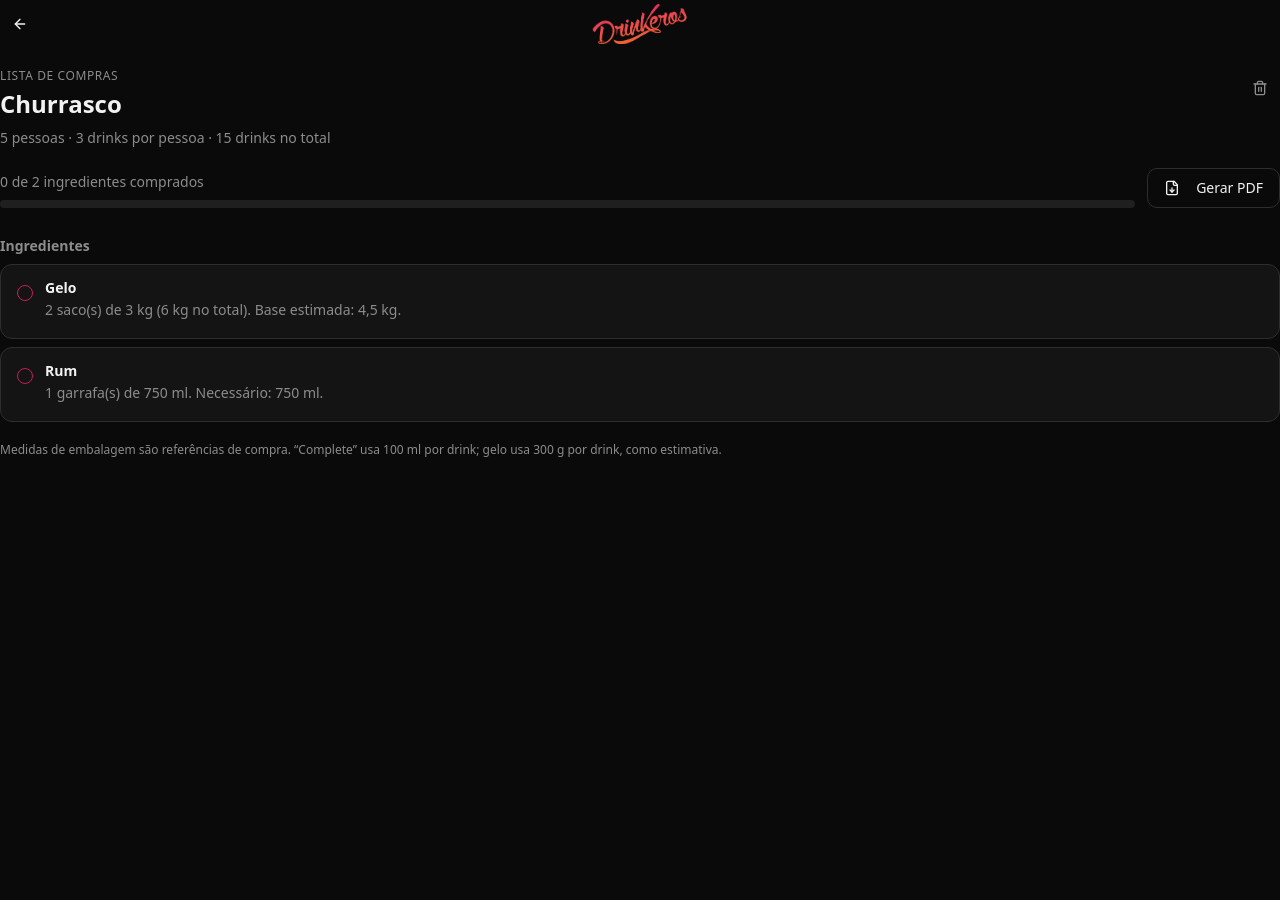
Test: keeps the confirmation open on failure and preserves the current list
The image size is (1280, 900).
What coordinates should you click on to do the following:
click the button named "Excluir lista Churrasco"
I would click on:
 (1260, 88)
Its box is [1240,68,1279,108].
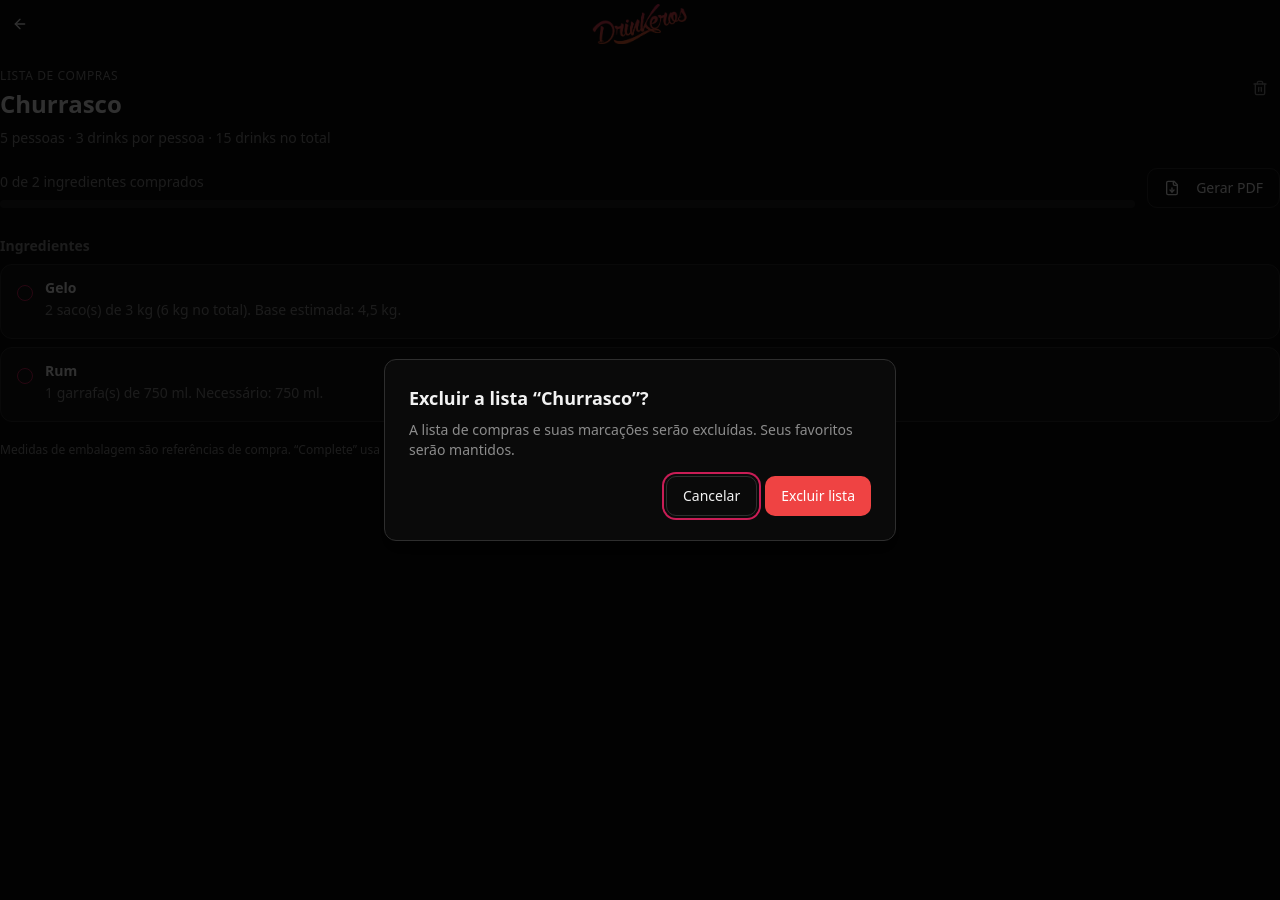
What coordinates should you click on to do the following:
click the button "Excluir lista"
I would click on:
 (818, 496)
Its box is [765,476,871,516].
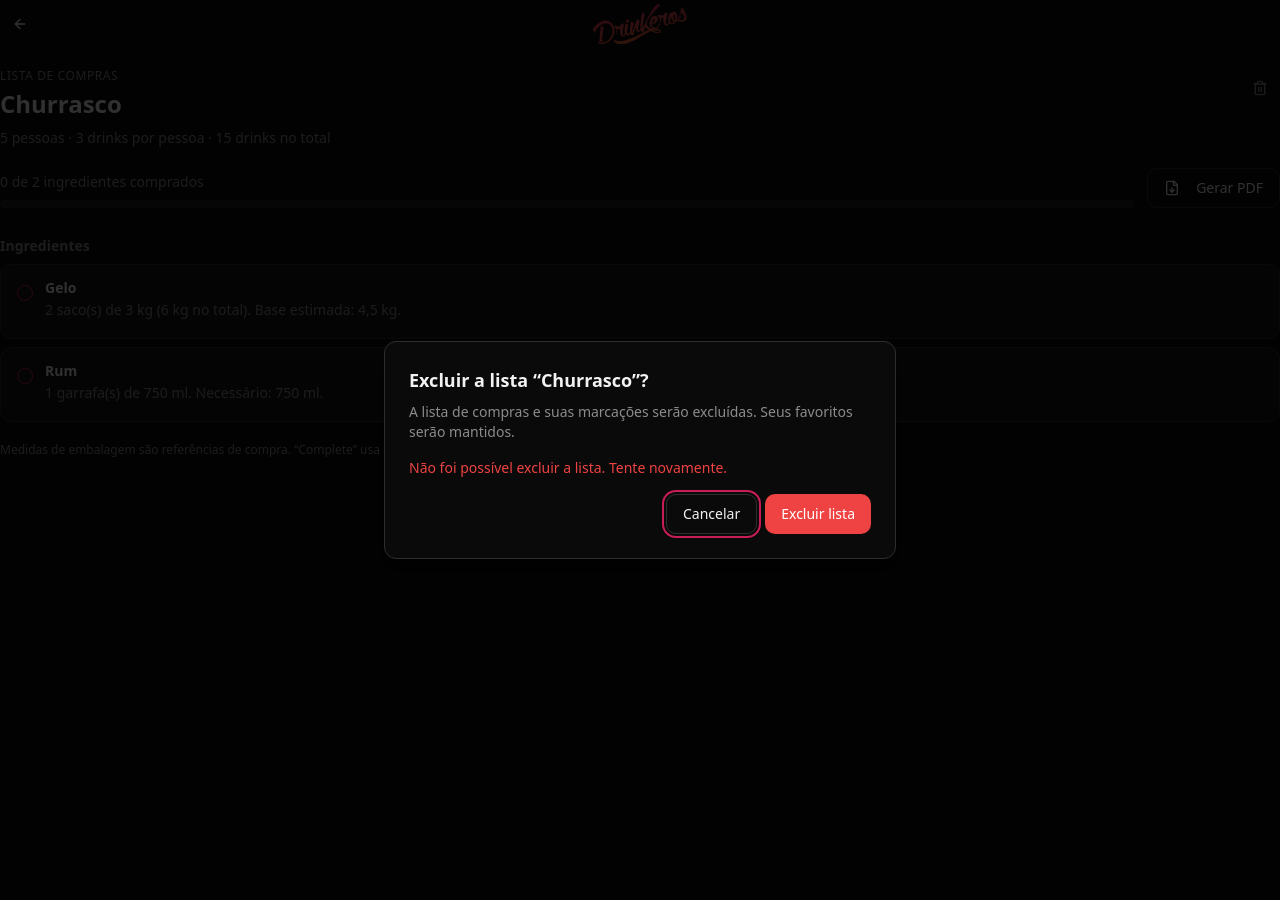
expect the dialog is shown: met, box [384,341,896,559]
expect the message "Não foi possível excluir a lista. Tente novamente." is shown: met, box [409,458,727,477]
